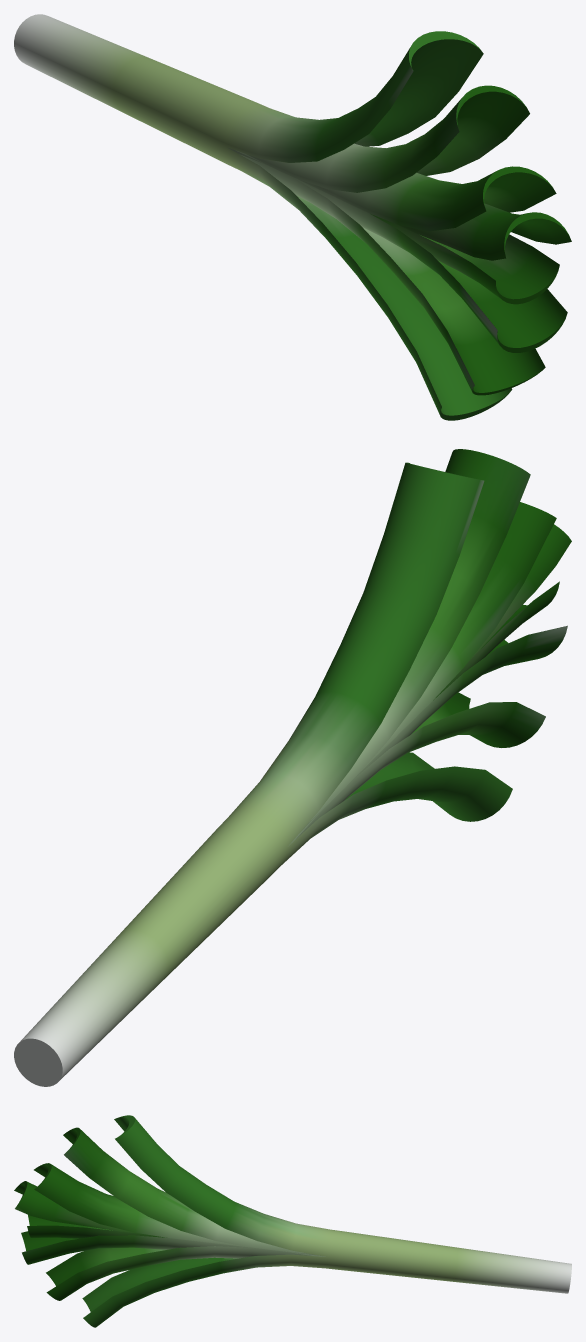
Rendered from leek_model.fbx.
3 renders of one model, top to bottom at view 1: azimuth 30°, elevation 25°; view 2: azimuth 150°, elevation 25°; view 3: azimuth 270°, elevation 25°, orthographic. The views are drawn at different scales.
Parts seen in each view (by area): view 1: Leek Model; view 2: Leek Model; view 3: Leek Model.
Boxes of the visible parts, bbox=[...] form: Leek Model: bbox=[14, 14, 571, 420]; Leek Model: bbox=[14, 449, 571, 1086]; Leek Model: bbox=[14, 1115, 571, 1327].
Bounding box in the file's own units: 83.92 × 7.18 × 34.08.
